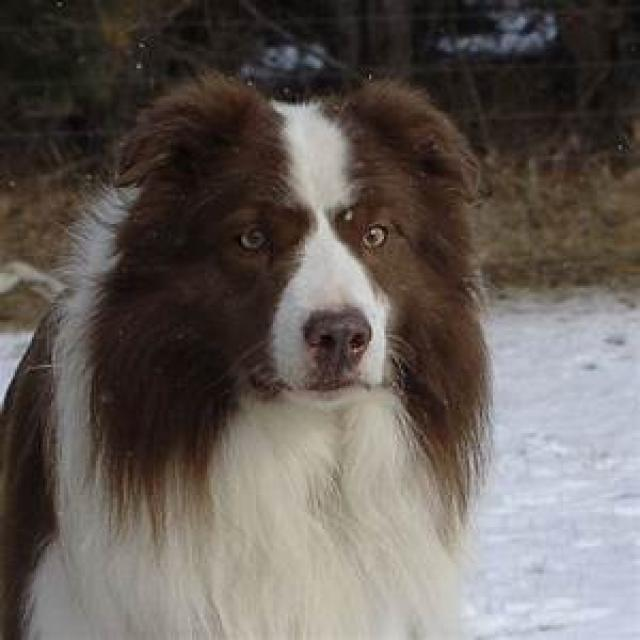animal: (0, 68, 497, 638)
